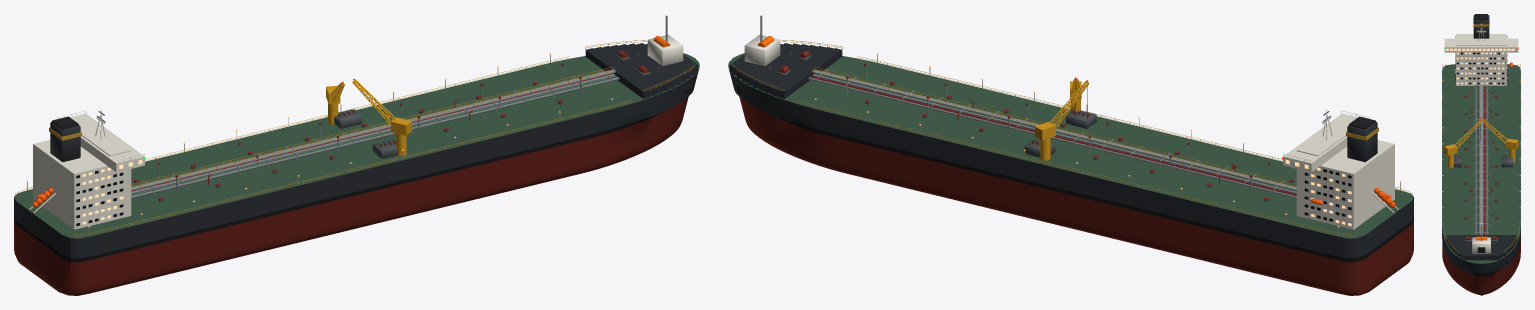
File: aliviador.glb
3 views of the same model, side by side, from view 1: azimuth 30°, elevation 25°; view 2: azimuth 150°, elevation 25°; view 3: azimuth 270°, elevation 25° (orthographic). The views are drawn at different scales.
Parts seen in each view (by area): view 1: aliviador_casco, aliviador_topside_superestrutura, aliviador_topside_amarelo, aliviador_topside_tubo, aliviador_topside_casco_aliviador, aliviador_topside_estrutura, aliviador_topside_tubo_verde, aliviador_topside_estrutura_escura, aliviador_topside_tubo_vermelho, aliviador_topside_chamine; view 2: aliviador_casco, aliviador_topside_superestrutura, aliviador_topside_amarelo, aliviador_topside_tubo, aliviador_topside_casco_aliviador, aliviador_topside_estrutura, aliviador_topside_tubo_vermelho, aliviador_topside_estrutura_escura, aliviador_topside_chamine, aliviador_topside_tubo_verde, aliviador_topside_janela_apagada; view 3: aliviador_casco, aliviador_topside_superestrutura, aliviador_topside_casco_aliviador, aliviador_topside_amarelo, aliviador_topside_estrutura, aliviador_topside_tubo, aliviador_topside_janela, aliviador_topside_tubo_vermelho, aliviador_topside_estrutura_escura, aliviador_topside_janela_apagada, aliviador_topside_chamine, aliviador_topside_tubo_verde (+2 smaller).
Boxes of the visible parts, left/top/right/bottom form: aliviador_casco: left=14, top=53, right=699, bottom=295; aliviador_topside_superestrutura: left=29, top=34, right=683, bottom=229; aliviador_topside_amarelo: left=15, top=40, right=695, bottom=237; aliviador_topside_tubo: left=131, top=66, right=619, bottom=198; aliviador_topside_casco_aliviador: left=585, top=43, right=698, bottom=98; aliviador_topside_estrutura: left=27, top=15, right=667, bottom=236; aliviador_topside_tubo_verde: left=131, top=75, right=616, bottom=195; aliviador_topside_estrutura_escura: left=134, top=52, right=659, bottom=201; aliviador_topside_tubo_vermelho: left=131, top=63, right=612, bottom=191; aliviador_topside_chamine: left=50, top=121, right=80, bottom=162; aliviador_casco: left=728, top=53, right=1413, bottom=295; aliviador_topside_superestrutura: left=744, top=34, right=1398, bottom=229; aliviador_topside_amarelo: left=732, top=40, right=1412, bottom=237; aliviador_topside_tubo: left=808, top=66, right=1296, bottom=198; aliviador_topside_casco_aliviador: left=729, top=43, right=842, bottom=98; aliviador_topside_estrutura: left=760, top=15, right=1400, bottom=236; aliviador_topside_tubo_vermelho: left=811, top=63, right=1296, bottom=195; aliviador_topside_estrutura_escura: left=768, top=52, right=1293, bottom=201; aliviador_topside_chamine: left=1347, top=121, right=1377, bottom=162; aliviador_topside_tubo_verde: left=815, top=73, right=1296, bottom=191; aliviador_topside_janela_apagada: left=1304, top=169, right=1351, bottom=221; aliviador_casco: left=1442, top=64, right=1520, bottom=295; aliviador_topside_superestrutura: left=1444, top=28, right=1518, bottom=253; aliviador_topside_casco_aliviador: left=1445, top=235, right=1517, bottom=260; aliviador_topside_amarelo: left=1443, top=64, right=1519, bottom=253; aliviador_topside_estrutura: left=1442, top=65, right=1520, bottom=240; aliviador_topside_tubo: left=1470, top=86, right=1492, bottom=234; aliviador_topside_janela: left=1444, top=38, right=1518, bottom=84; aliviador_topside_tubo_vermelho: left=1455, top=86, right=1507, bottom=234; aliviador_topside_estrutura_escura: left=1453, top=97, right=1512, bottom=245; aliviador_topside_janela_apagada: left=1455, top=36, right=1507, bottom=84; aliviador_topside_chamine: left=1473, top=15, right=1489, bottom=38; aliviador_topside_tubo_verde: left=1478, top=86, right=1479, bottom=234.
Size of the model in its own units: 279 by 62.25 by 46.01.
